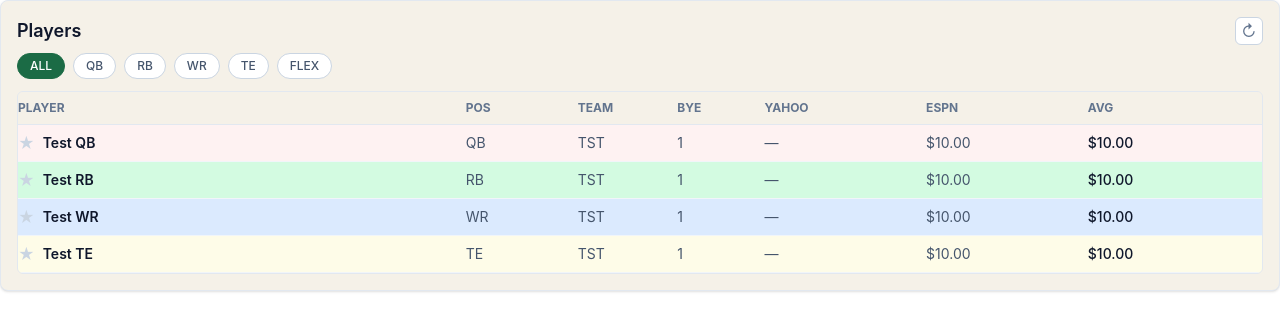
Test: PlayerList FLEX filter › only includes positions actually eligible for this format's FLEX slot, not every non-QB position
Click the button "FLEX" at (304, 66), box left=277, top=53, right=332, bottom=79
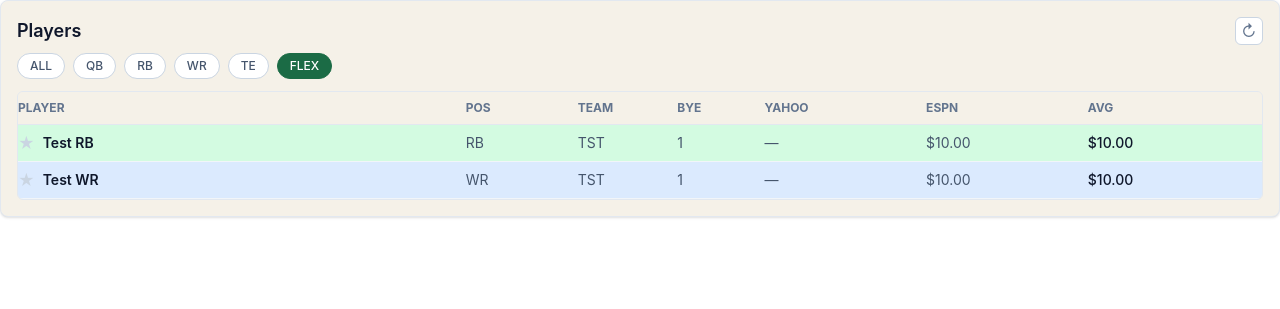
Expected: the button "Test RB" is shown, left=43, top=133, right=94, bottom=153
Expected: the button "Test TE" is gone
